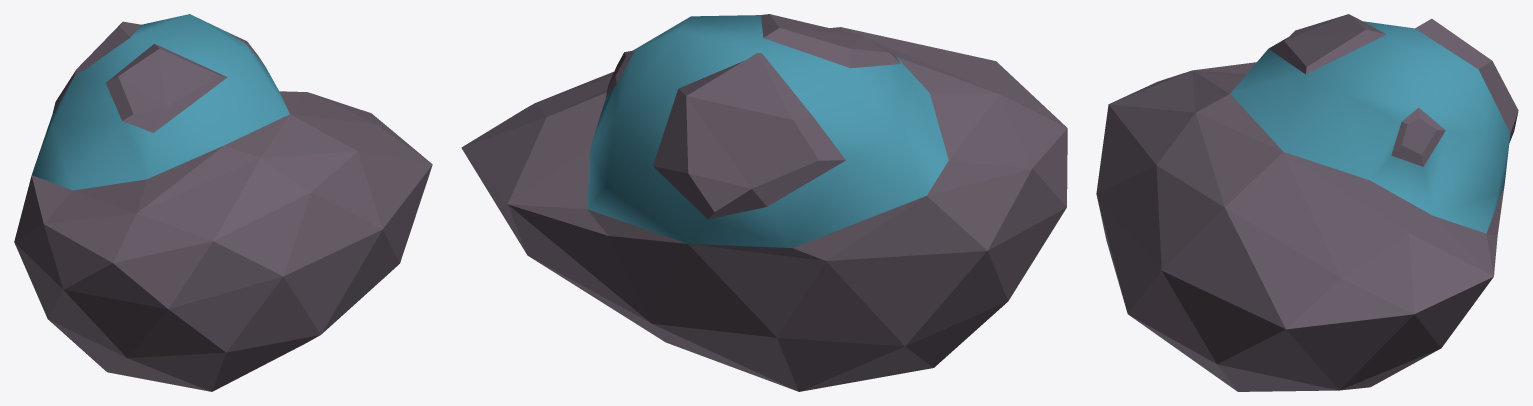
File: Stone_Round_Magik.fbx
The picture shows the model from 3 angles, left to right: view 1: azimuth 30°, elevation 25°; view 2: azimuth 150°, elevation 25°; view 3: azimuth 270°, elevation 25°; orthographic projection. The views are drawn at different scales.
Parts seen in each view (by area): view 1: Stone_Round_Magik; view 2: Stone_Round_Magik; view 3: Stone_Round_Magik.
Boxes of the visible parts, x1,y1,x2,y2 form: Stone_Round_Magik: (14,14,432,391); Stone_Round_Magik: (461,14,1067,391); Stone_Round_Magik: (1096,14,1518,391).
Bounding box in the file's own units: 0.9965 × 0.7241 × 0.8005.
